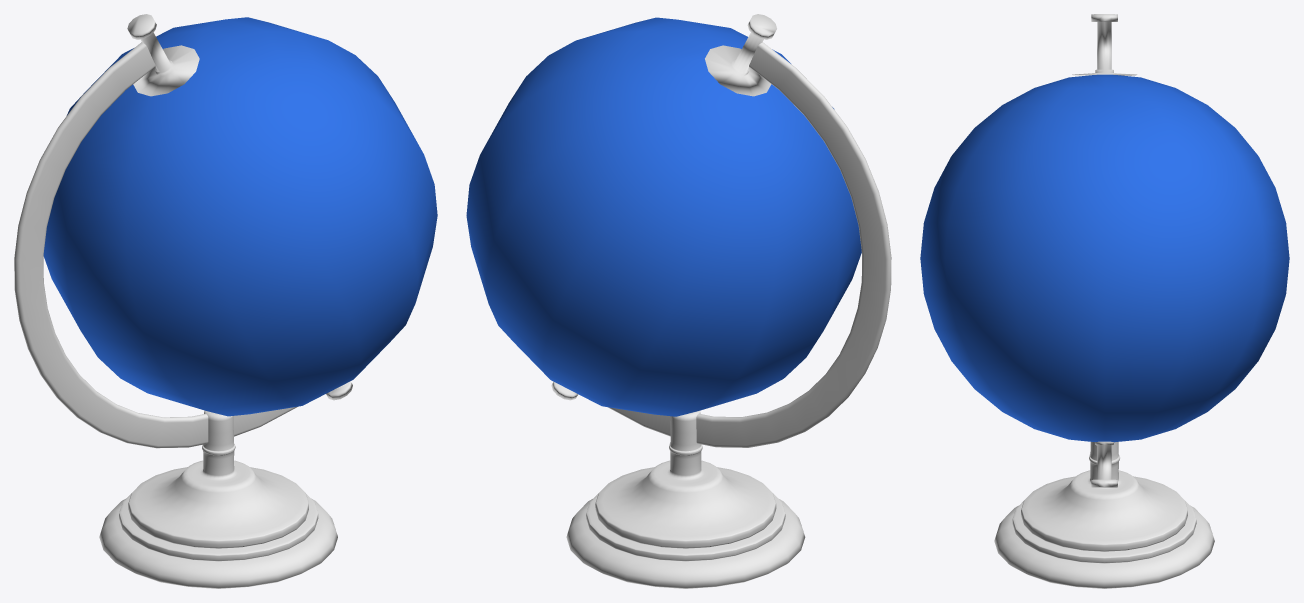
The model's file is Globe.fbx.
3 views of the same model, side by side, from view 1: azimuth 30°, elevation 25°; view 2: azimuth 150°, elevation 25°; view 3: azimuth 270°, elevation 25° (orthographic). The views are drawn at different scales.
Visible parts, largest first — view 1: Globe; view 2: Globe; view 3: Globe.
Part boxes in pixels (<box>): Globe: <box>14,14,437,588</box>; Globe: <box>466,14,891,588</box>; Globe: <box>920,14,1289,588</box>.
Size of the model in its own units: 337 by 438 by 294.
